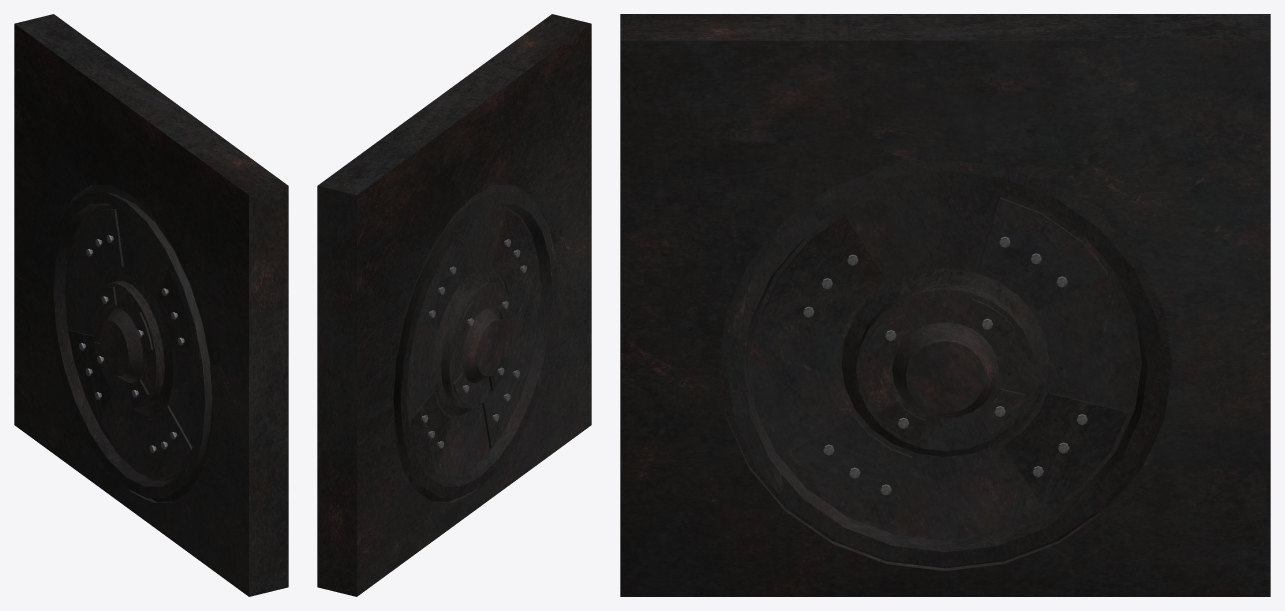
The model's file is Door.fbx.
3 renders of one model, left to right at view 1: azimuth 30°, elevation 25°; view 2: azimuth 150°, elevation 25°; view 3: azimuth 270°, elevation 25°, orthographic. The views are drawn at different scales.
Parts seen in each view (by area): view 1: Cube, Cylinder.001; view 2: Cube, Cylinder.001; view 3: Cube, Cylinder.001.
Boxes of the visible parts, x1,y1,x2,y2 form: Cube: (14, 14, 288, 596); Cylinder.001: (47, 185, 213, 501); Cube: (317, 14, 591, 596); Cylinder.001: (392, 185, 558, 501); Cube: (620, 14, 1270, 596); Cylinder.001: (718, 159, 1172, 568).
Size of the model in its own units: 161 by 835 by 884.
2 materials, 2 textured.
